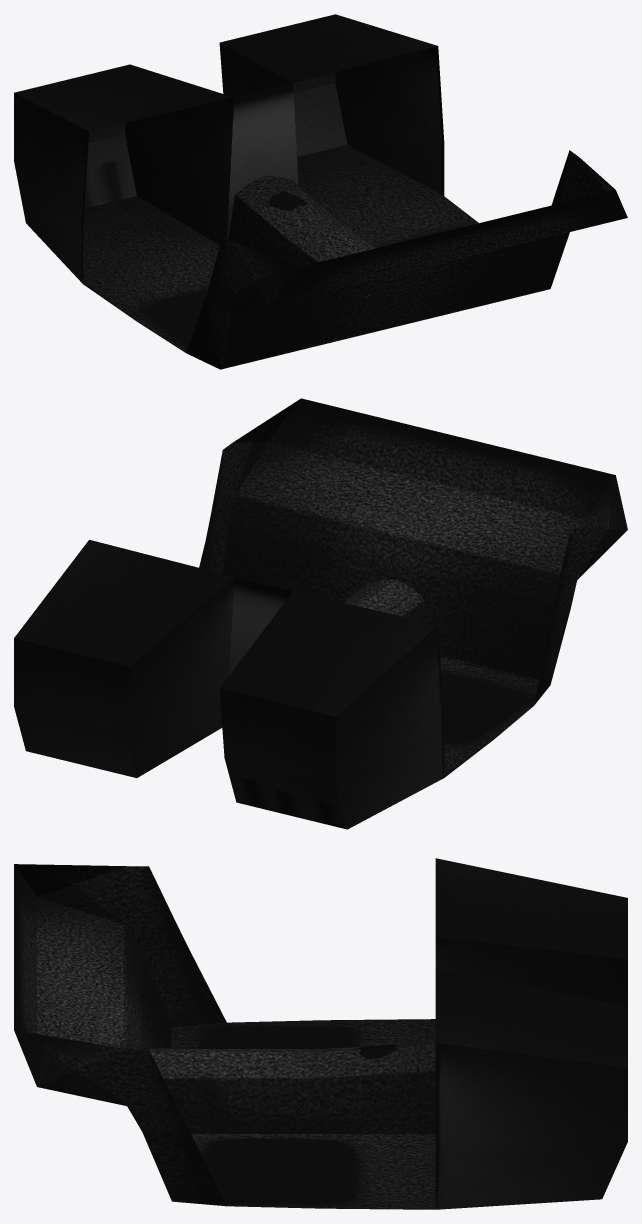
The model's file is carpet.dae.
3 views of the same model, one above another, from view 1: azimuth 30°, elevation 25°; view 2: azimuth 150°, elevation 25°; view 3: azimuth 270°, elevation 25° (orthographic). The views are drawn at different scales.
Visible parts, largest first — view 1: floor, walls; view 2: walls, floor; view 3: floor, walls.
Part boxes in pixels (left/top/right/bottom): floor: left=83, top=144, right=627, bottom=369; walls: left=14, top=14, right=444, bottom=283; walls: left=14, top=539, right=444, bottom=829; floor: left=199, top=398, right=627, bottom=777; floor: left=14, top=864, right=435, bottom=1209; walls: left=435, top=858, right=627, bottom=1209.
Size of the model in its own units: 1.44 by 1.96 by 0.5899.
Materials: 2 (2 with a texture image).
